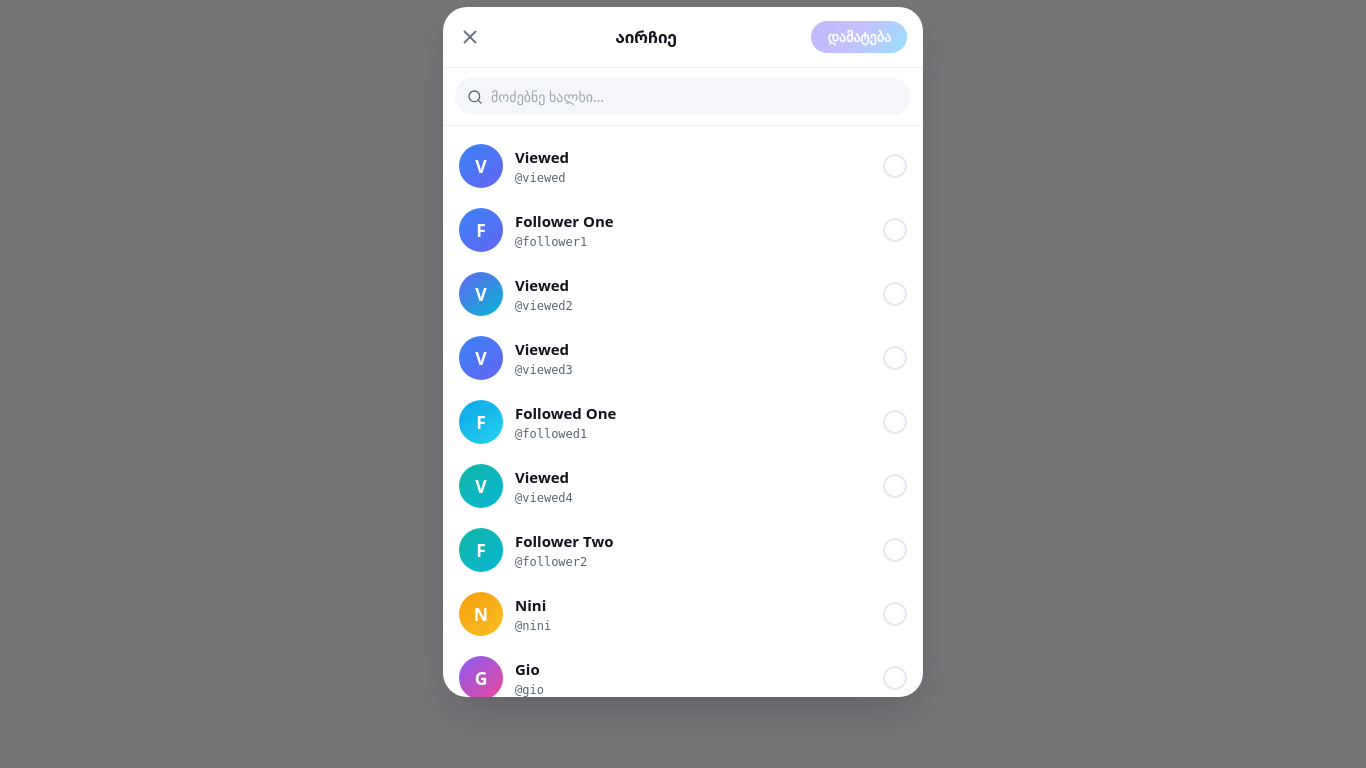
Test: PeoplePicker › lists locally-known users (excluding me and the exclude list) and lets you select one
The image size is (1366, 768).
Later steps or results of the test are not shown.
Expected: the text "Gio" is shown, [515, 658, 540, 680]
Expected: the button "დამატება" is disabled, [811, 21, 907, 53]
Click the text "Nini" at (531, 605), box [515, 594, 546, 616]
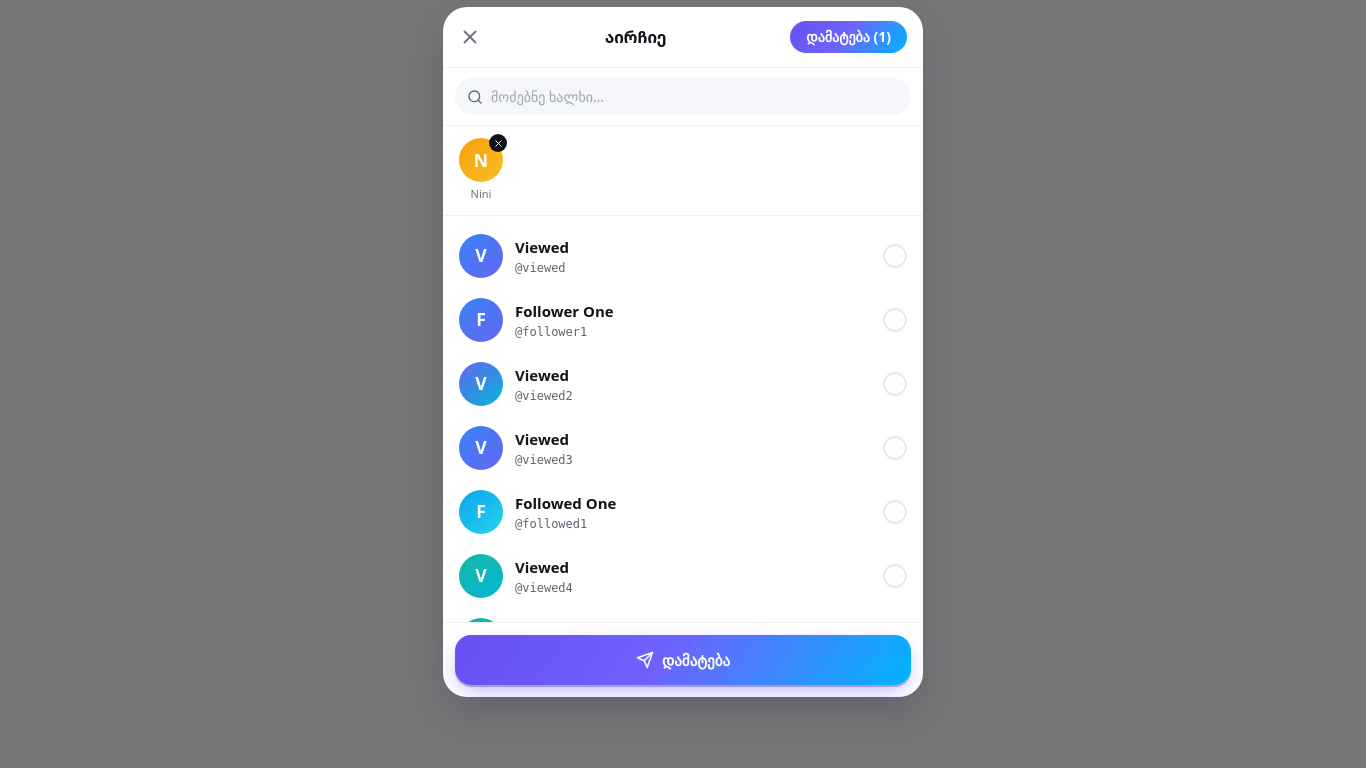
Now the button "დამატება (1)" is enabled, box [790, 21, 907, 53]
